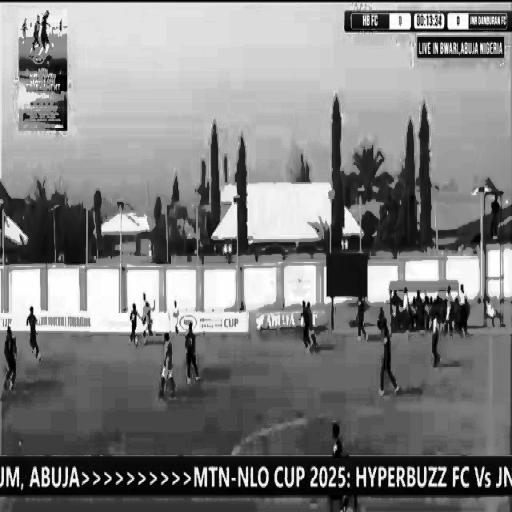referee: (428, 305, 442, 369), (458, 284, 468, 336)
team1: (160, 333, 178, 398), (443, 286, 454, 340), (142, 302, 156, 343), (304, 295, 314, 349)
team2: (380, 315, 398, 397), (2, 320, 21, 390), (184, 318, 202, 388), (26, 306, 44, 366), (126, 300, 139, 344), (299, 304, 308, 350)
